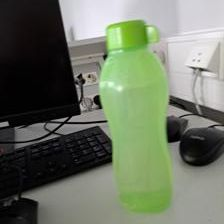bottle: (95, 16, 175, 211)
